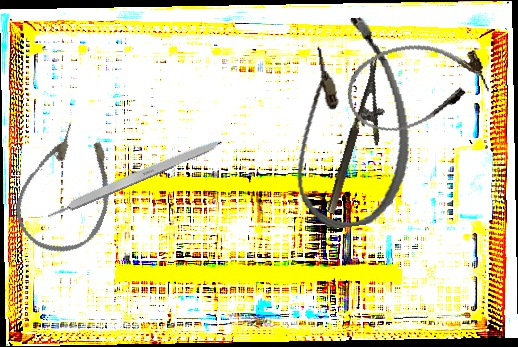Cannula: (275, 12, 421, 234), (5, 114, 131, 265), (338, 29, 494, 141)
Needle Holder: (325, 56, 402, 221)
Scalpel Handle: (44, 134, 224, 221)
